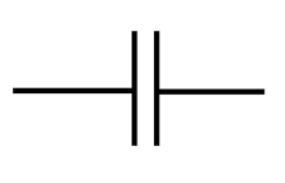Capacitor: (119, 20, 170, 151)
